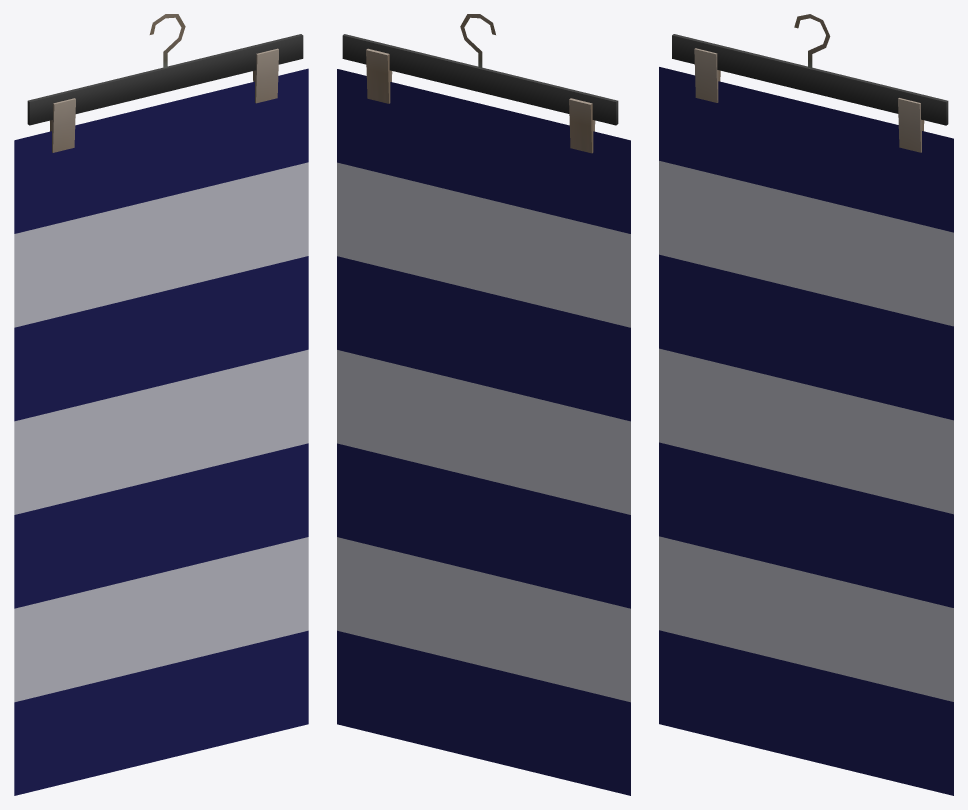
File: Hang_Towel_08.fbx
The picture shows the model from 3 angles, left to right: view 1: azimuth 30°, elevation 25°; view 2: azimuth 150°, elevation 25°; view 3: azimuth 330°, elevation 25°; orthographic projection.
Visible parts, largest first — view 1: Hang_Towel_08; view 2: Hang_Towel_08; view 3: Hang_Towel_08.
Boxes of the visible parts, x1,y1,x2,y2 form: Hang_Towel_08: [14, 14, 308, 795]; Hang_Towel_08: [337, 14, 630, 795]; Hang_Towel_08: [659, 14, 953, 795].
Size of the model in its own units: 0.1666 by 0.4036 by 0.00506.
